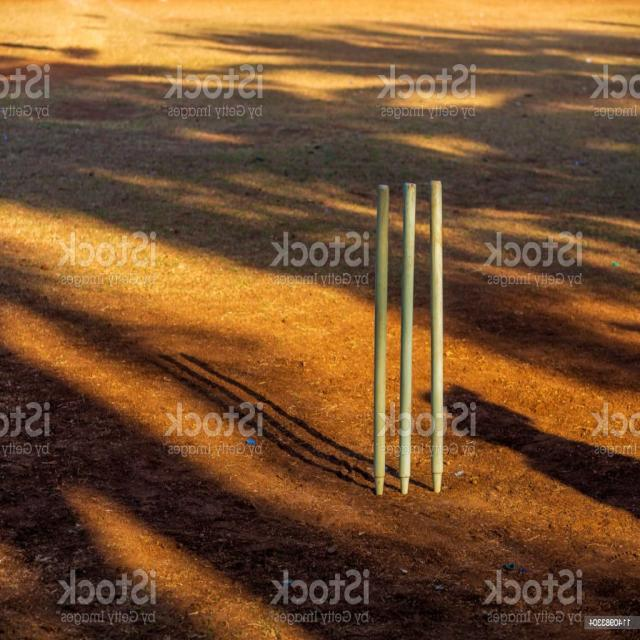stump: (371, 176, 441, 494)
